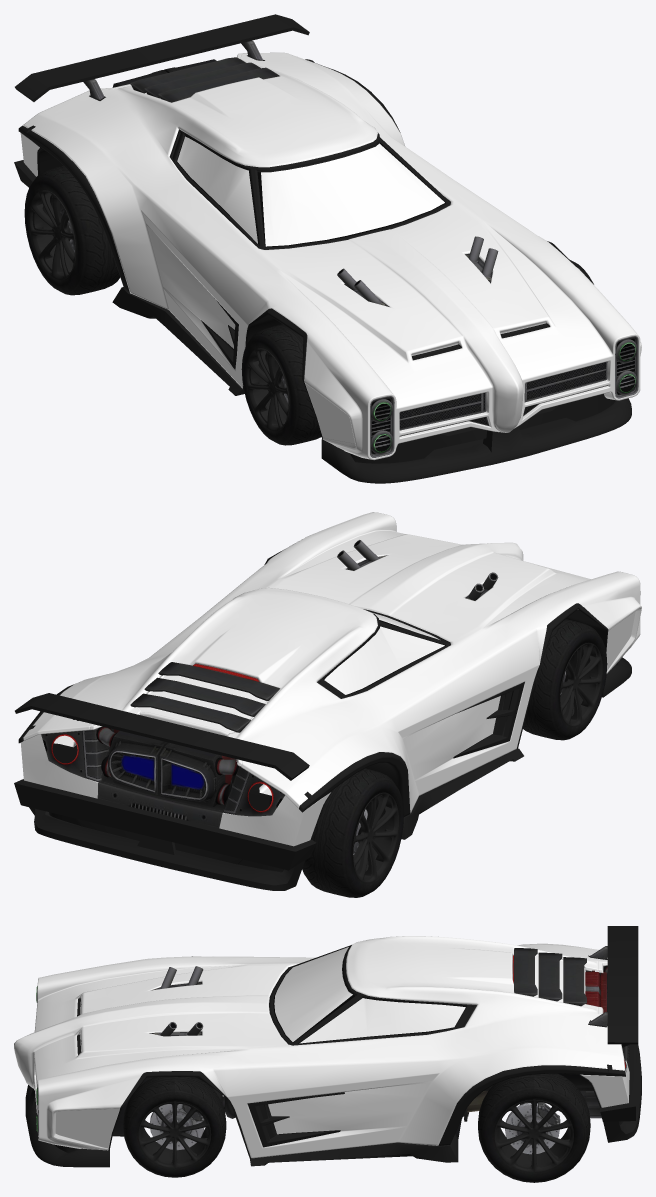
The model's file is 3D_dominus_for_website.glb.
3 views of the same model, one above another, from view 1: azimuth 30°, elevation 25°; view 2: azimuth 150°, elevation 25°; view 3: azimuth 270°, elevation 25° (orthographic). The views are drawn at different scales.
Parts seen in each view (by area): view 1: DOM-Body; view 2: DOM-Body; view 3: DOM-Body.
Part boxes in pixels (left/top/right/bottom): DOM-Body: left=14, top=14, right=641, bottom=483; DOM-Body: left=14, top=512, right=641, bottom=897; DOM-Body: left=14, top=926, right=641, bottom=1182.
Size of the model in its own units: 1.77 by 0.9663 by 3.47.
Materials: 7 (2 with a texture image).
